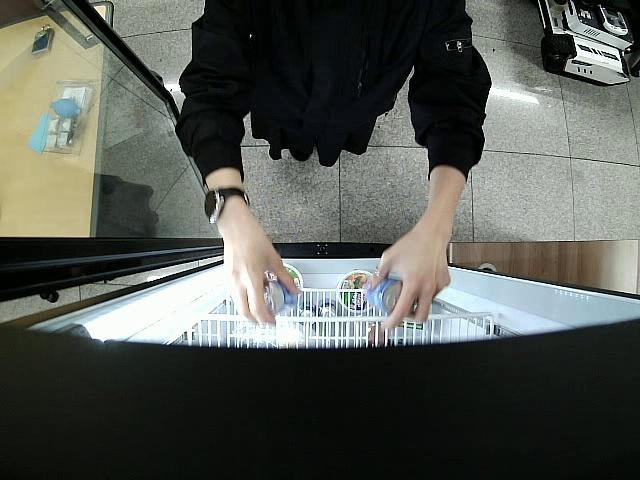15_letsbe: (363, 276, 402, 315), (260, 279, 299, 316)
